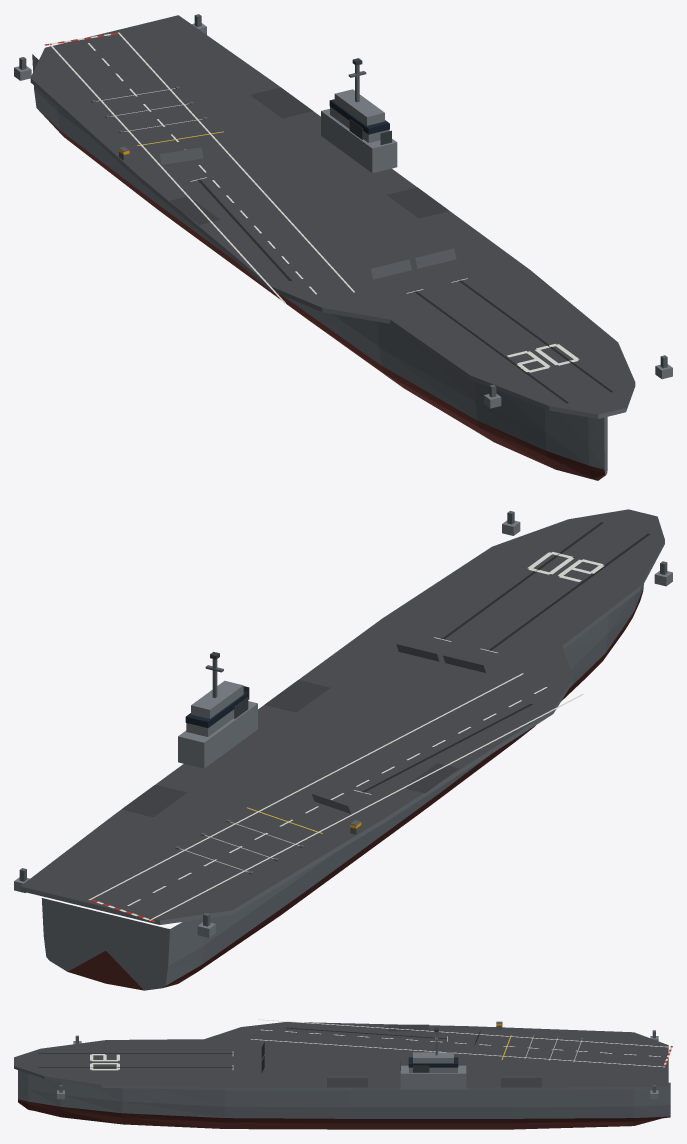
File: cvn90.glb
3 views of the same model, one above another, from view 1: azimuth 30°, elevation 25°; view 2: azimuth 150°, elevation 25°; view 3: azimuth 270°, elevation 25° (orthographic). The views are drawn at different scales.
Visible parts, largest first — view 1: cvn90; view 2: cvn90; view 3: cvn90.
Part boxes in pixels (left/top/right/bottom): cvn90: left=14, top=14, right=672, bottom=480; cvn90: left=14, top=509, right=672, bottom=990; cvn90: left=14, top=1019, right=672, bottom=1129.
Bounding box in the file's own units: 82.72 × 63.2 × 322.
